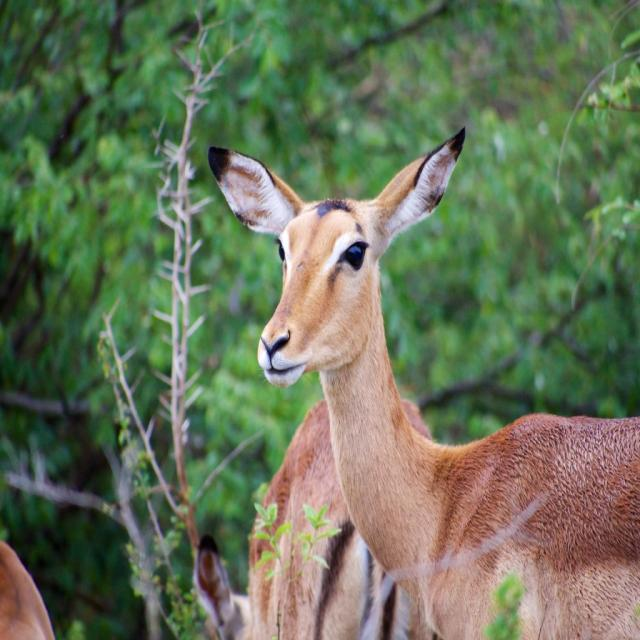Deer: (207, 125, 640, 640), (193, 396, 441, 640), (0, 538, 55, 640)
